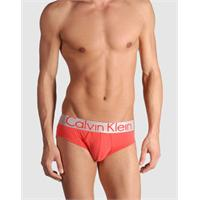mutande: (56, 113, 134, 161)
